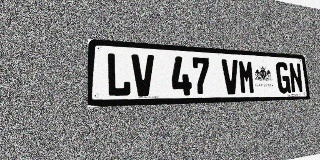4: (171, 56, 192, 96)
7: (191, 57, 211, 95)
G: (275, 62, 291, 93)
L: (106, 52, 131, 97)
M: (238, 60, 255, 94)
N: (288, 62, 303, 93)
V: (131, 54, 155, 97), (221, 59, 240, 95)
